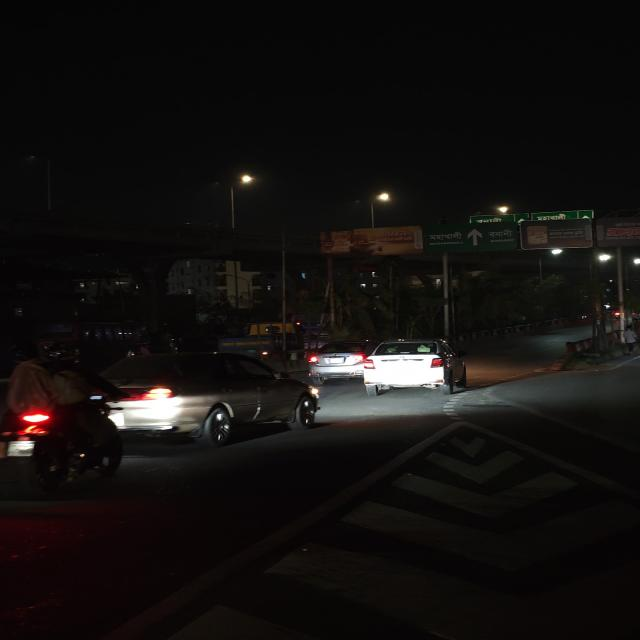car: (93, 348, 320, 452), (358, 338, 472, 396), (308, 339, 370, 380)
motorcycle: (0, 351, 127, 492)
pedestrian: (620, 325, 640, 355)
